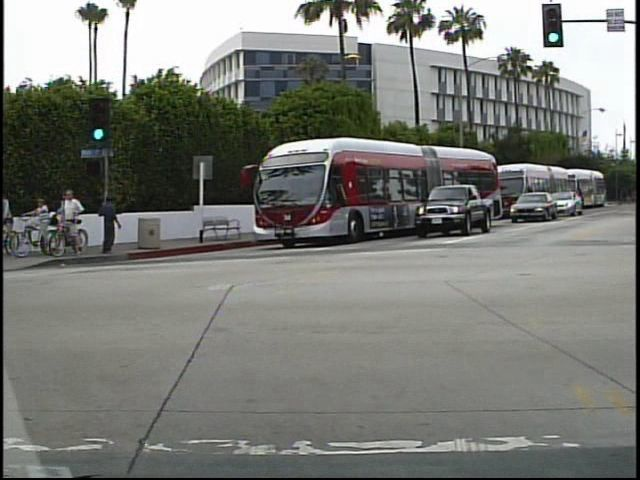person: (56, 187, 87, 256)
